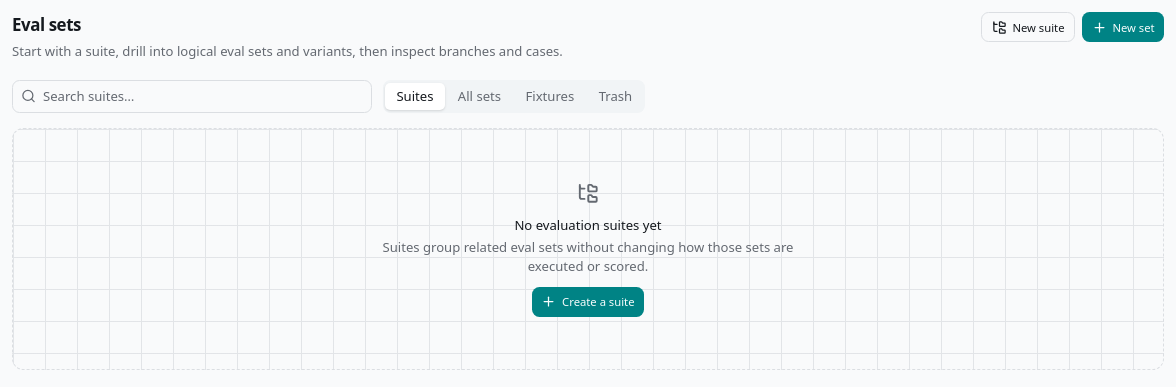
SetsPage › uses the singular form for a set with one case
What coordinates should you click on to do the following:
click the tab "All sets"
I would click on:
 (480, 96)
Its box is [447, 83, 512, 110].
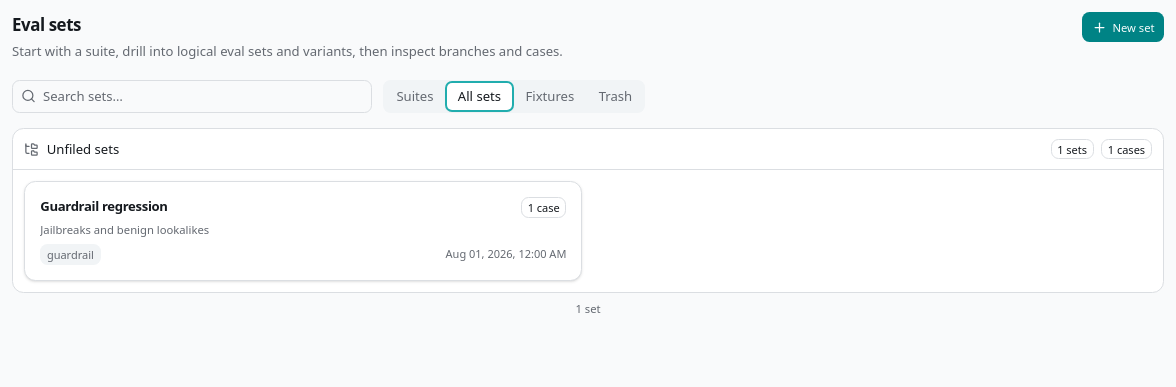
Now the text "1 case" is shown, box [521, 197, 566, 218]
